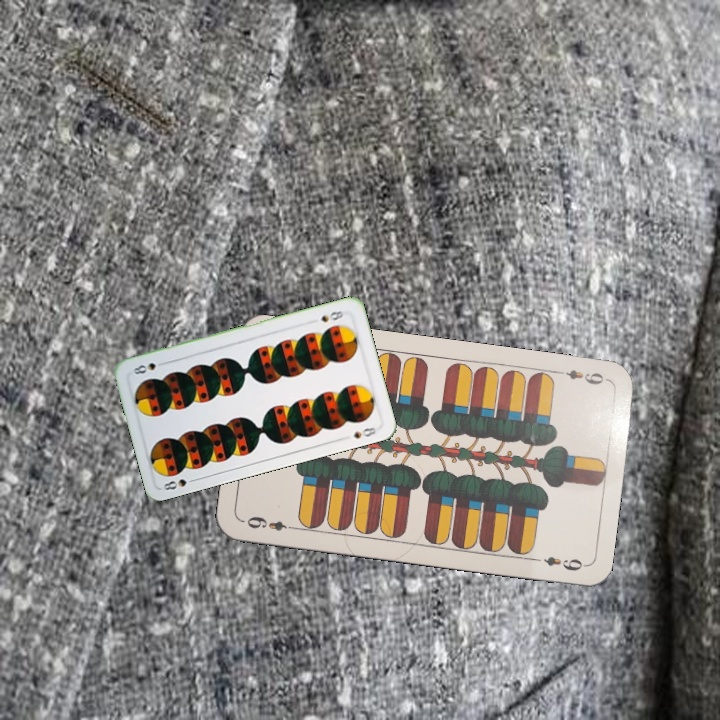E9: (240, 512, 299, 533), (552, 366, 610, 387)
S8: (159, 474, 199, 495), (317, 307, 345, 325)
